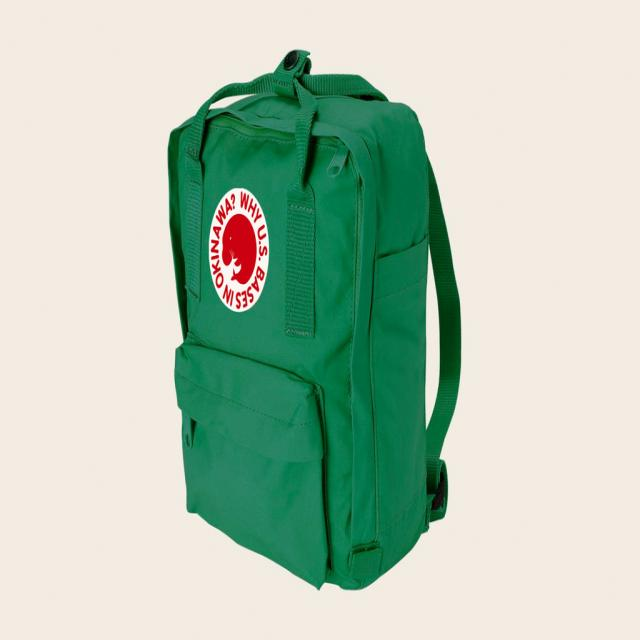backpack: (163, 67, 452, 599)
